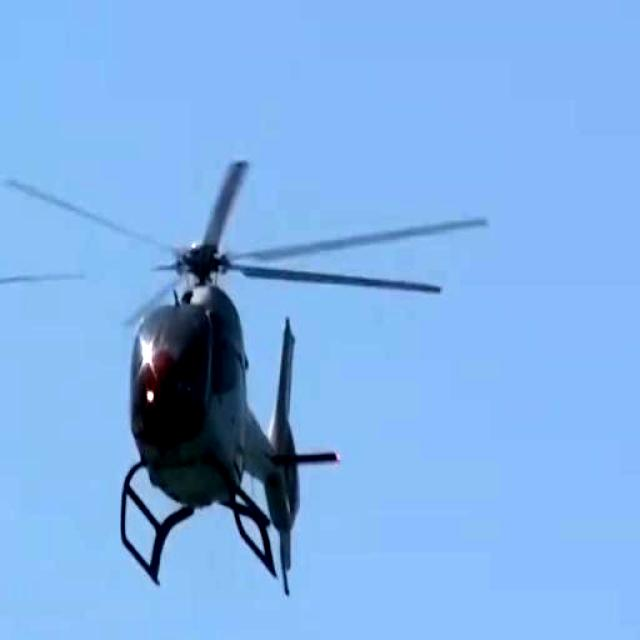drone: (50, 155, 422, 635)
